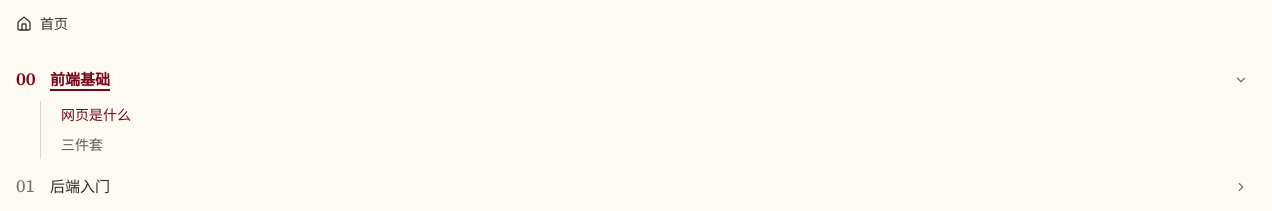
Scenario: Sidebar › 点击折叠按钮切换 chapters 显隐
The width and height of the screenshot is (1272, 211).
Note:  折叠掉当前课程
Click the button named "折叠".
click(1241, 80)  # box [1226,64,1256,97]
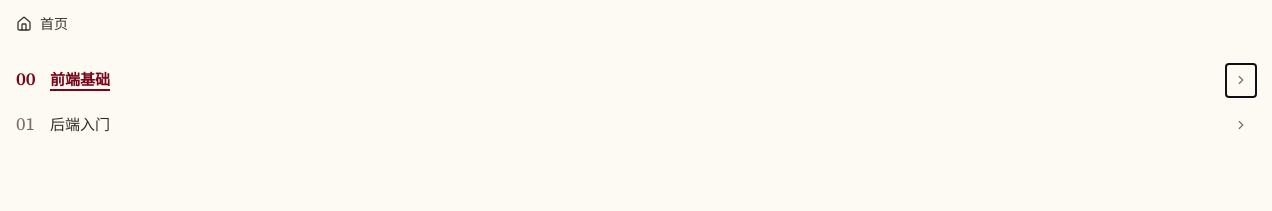
Result: the link "网页是什么" is gone
